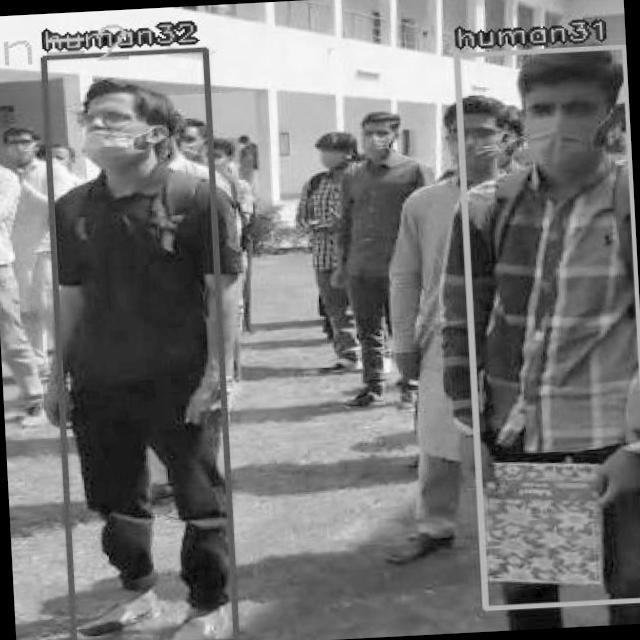person: (40, 47, 235, 640), (453, 45, 640, 608)
